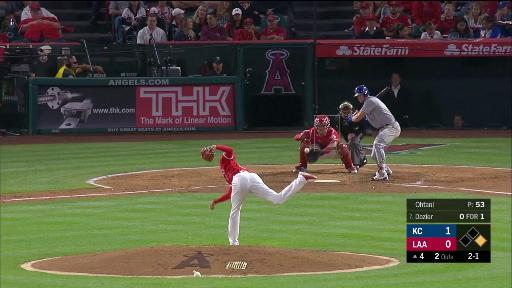pitcher: (200, 144, 319, 246)
